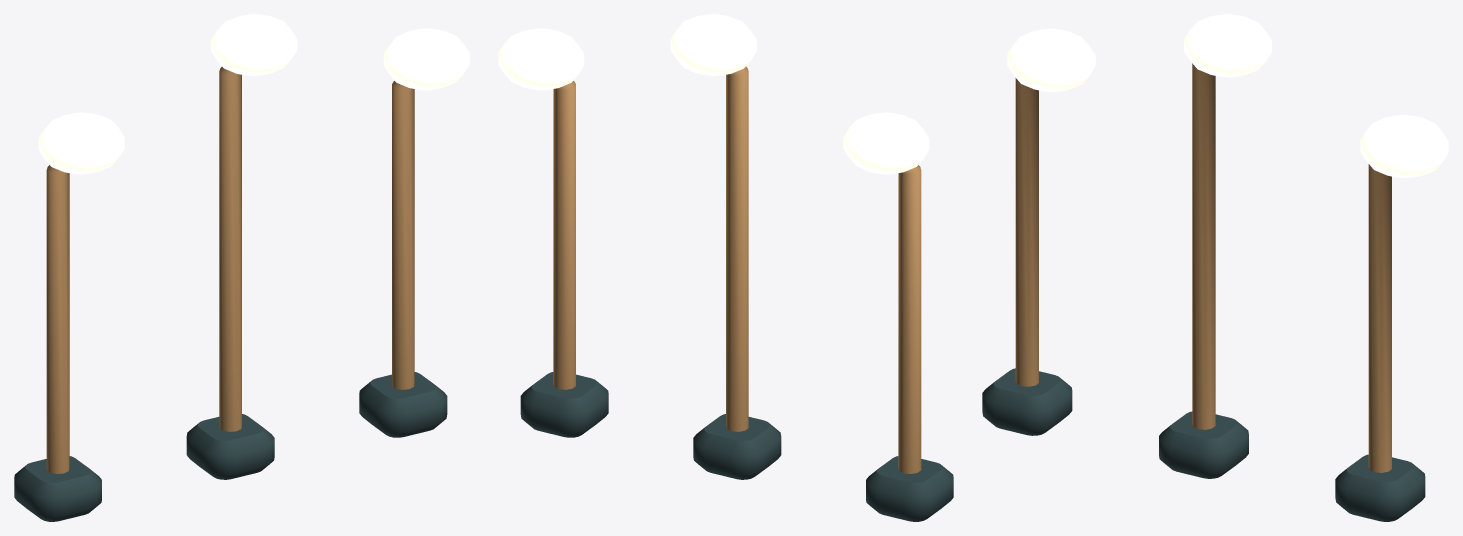
File: lights_2.glb
3 renders of one model, left to right at view 1: azimuth 30°, elevation 25°; view 2: azimuth 150°, elevation 25°; view 3: azimuth 330°, elevation 25°, orthographic. The views are drawn at different scales.
Visible parts, largest first — view 1: Lights; view 2: Lights; view 3: Lights.
Part boxes in pixels (x1,y1,x2,y2): Lights: [14, 14, 469, 521]; Lights: [498, 14, 953, 521]; Lights: [982, 14, 1448, 521].
Bounding box in the file's own units: 3.19 × 3.05 × 0.5265.
